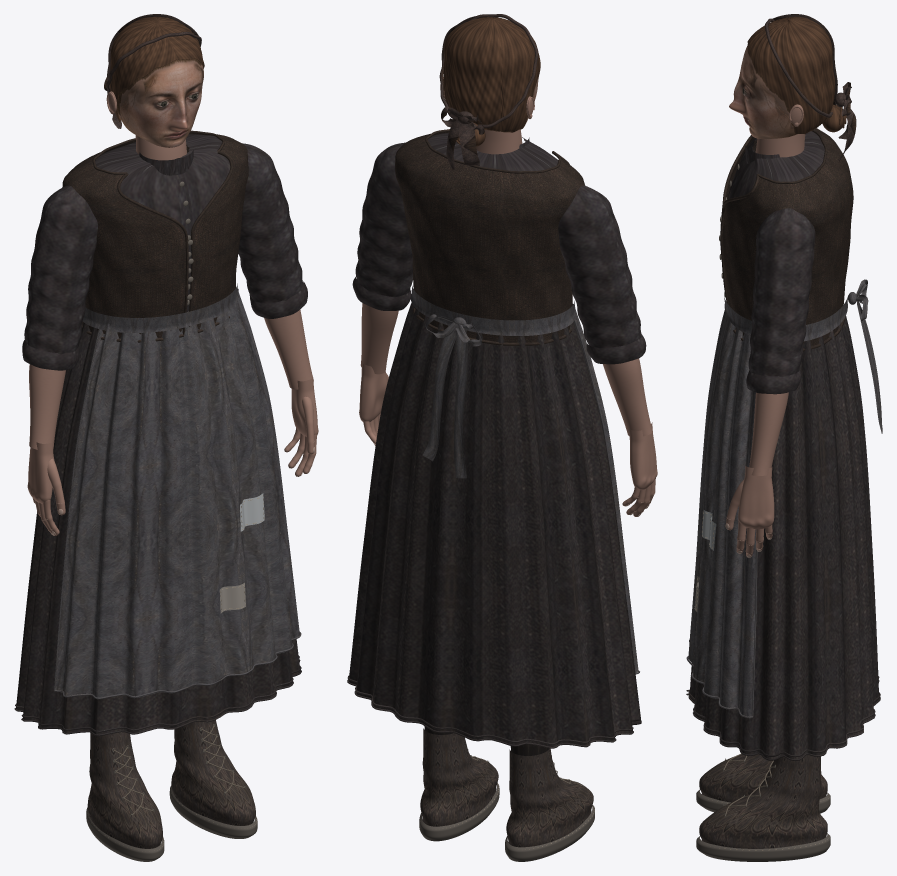
File: viktoria_gabriel_v04.glb
The picture shows the model from 3 angles, left to right: view 1: azimuth 30°, elevation 25°; view 2: azimuth 150°, elevation 25°; view 3: azimuth 270°, elevation 25°; orthographic projection. The views are drawn at different scales.
Visible parts, largest first — view 1: apron, dress-skirt, vest, sleeve--1, sleeve-1, boot-upper--1, boot-upper-1, bodice, face, hair-shell, waistband, forearm--1 (+15 smaller); view 2: dress-skirt, vest, sleeve--1, hair-shell, sleeve-1, boot-upper--1, boot-upper-1, waistband, forearm--1, hand--1, bodice, forearm-1 (+13 smaller); view 3: dress-skirt, apron, vest, sleeve-1, boot-upper-1, hair-shell, face, hand-1, bodice, boot-upper--1, forearm-1, boot-sole-1 (+11 smaller).
Boxes of the visible parts, x1,y1,x2,y2 form: apron: (55, 289, 299, 698); dress-skirt: (16, 322, 300, 736); vest: (62, 133, 248, 338); sleeve--1: (24, 185, 97, 354); sleeve-1: (238, 143, 303, 303); boot-upper--1: (87, 732, 162, 848); boot-upper-1: (171, 720, 255, 825); bodice: (95, 134, 230, 224); face: (117, 58, 203, 147); hair-shell: (110, 16, 204, 122); waistband: (82, 283, 238, 332); forearm--1: (29, 364, 65, 449); dress-skirt: (348, 302, 641, 747); vest: (395, 131, 584, 342); sleeve--1: (558, 185, 641, 347); hair-shell: (443, 17, 540, 132); sleeve-1: (355, 142, 412, 296); boot-upper--1: (506, 748, 593, 847); boot-upper-1: (420, 728, 498, 826); waistband: (410, 286, 575, 335); forearm--1: (603, 358, 652, 436); hand--1: (622, 422, 657, 516); bodice: (428, 132, 558, 171); forearm-1: (360, 303, 398, 374); dress-skirt: (689, 316, 879, 760); apron: (688, 310, 756, 716); vest: (722, 128, 853, 345); sleeve-1: (748, 208, 815, 376); boot-upper-1: (699, 755, 827, 848); hair-shell: (747, 16, 835, 133); face: (729, 46, 797, 139); hand-1: (726, 466, 774, 556); bodice: (729, 131, 824, 198); boot-upper--1: (699, 754, 827, 802); forearm-1: (749, 392, 788, 475); boot-sole-1: (696, 833, 830, 861).
Size of the model in its own units: 0.599 by 1.63 by 0.3567.
24 materials, 15 textured.
